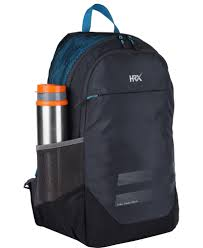backpack: (23, 3, 179, 247)
